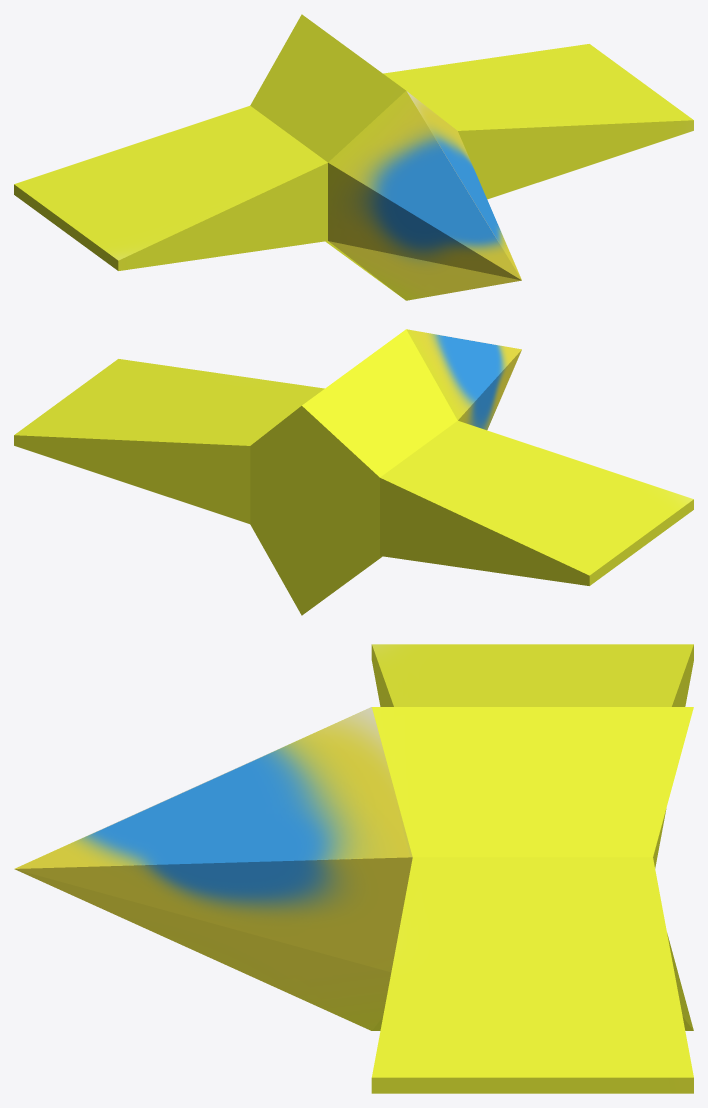
Rendered from ship2.glb.
The picture shows the model from 3 angles, top to bottom: view 1: azimuth 30°, elevation 25°; view 2: azimuth 150°, elevation 25°; view 3: azimuth 270°, elevation 25°; orthographic projection. The views are drawn at different scales.
Parts seen in each view (by area): view 1: Cone; view 2: Cone; view 3: Cone.
Part boxes in pixels (x1=…): Cone: x1=14, y1=14, x2=693, y2=300; Cone: x1=14, y1=329, x2=693, y2=615; Cone: x1=14, y1=644, x2=693, y2=1093.
Size of the model in its own units: 5.73 by 2 by 3.8.
Materials: 1 (1 with a texture image).
